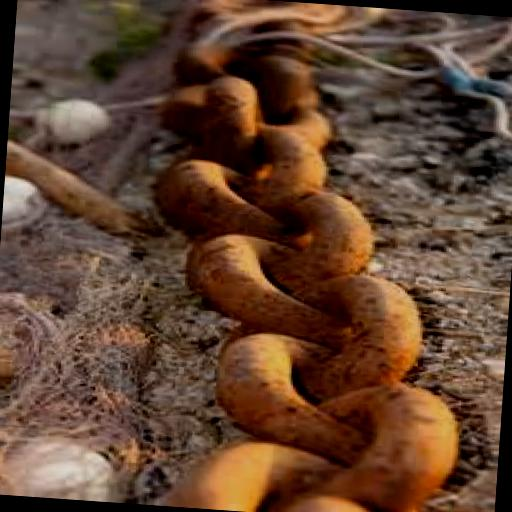corrosion: (179, 241, 427, 512), (0, 180, 149, 498), (159, 53, 358, 262), (152, 158, 332, 372), (276, 354, 455, 512), (290, 193, 372, 275)
